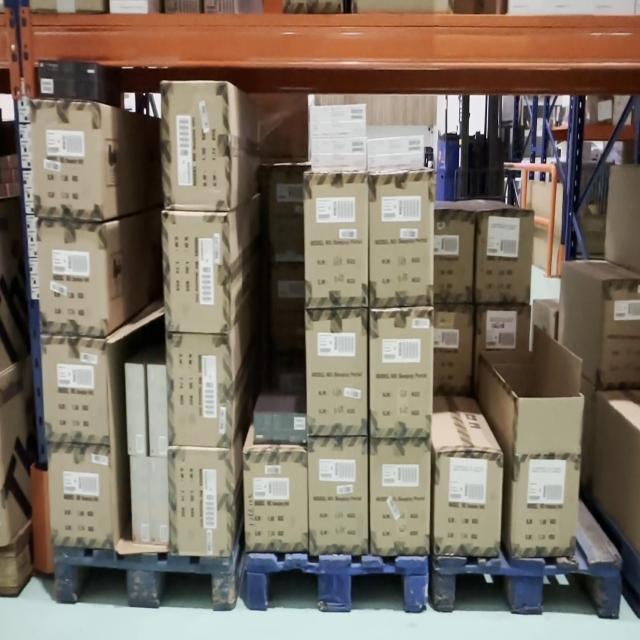box: (369, 174, 434, 302), (165, 80, 229, 208), (371, 308, 434, 436), (306, 310, 367, 436), (307, 175, 368, 300), (167, 213, 228, 333), (370, 444, 431, 558), (171, 449, 234, 559), (310, 444, 370, 556), (170, 337, 232, 444), (513, 458, 576, 561), (436, 457, 501, 552), (247, 453, 307, 551)
